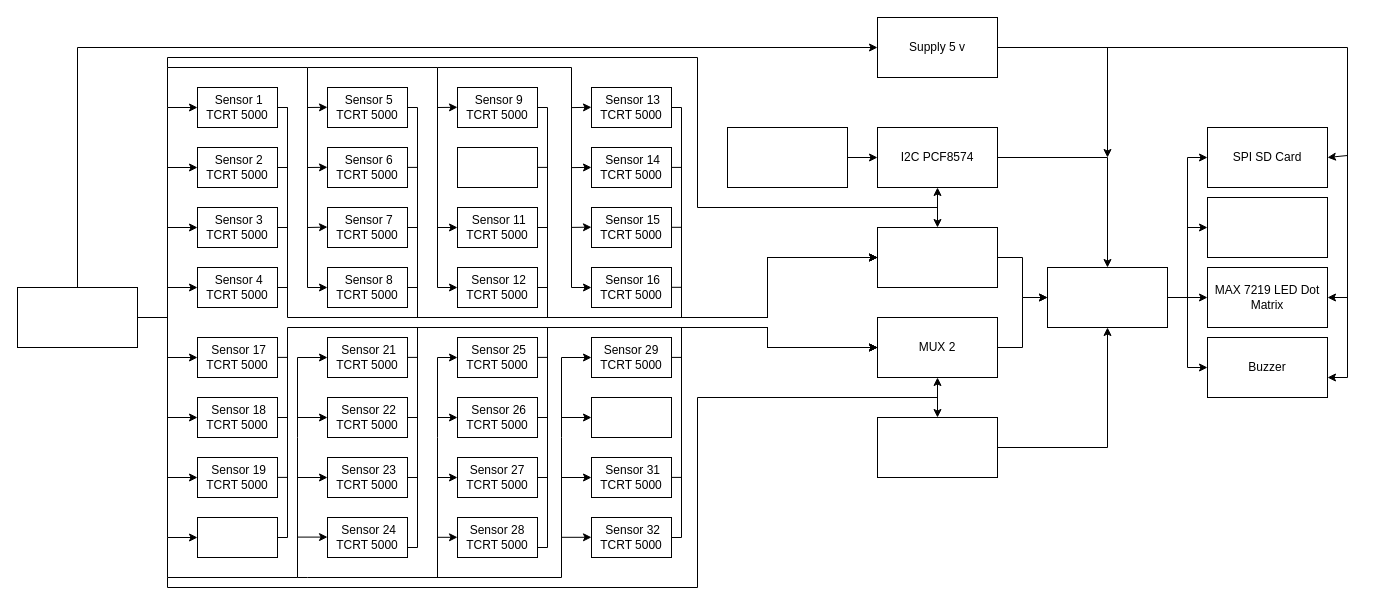
This 1373x606 diagram has some shape labels left out. The shapes that lost their labels are listed below. From the top down, each one's centre as x and y in pixels, then its label:
At point (497, 167): "Sensor 10 TCRT 5000".
At point (787, 157): "Keypad Matrix".
At point (1267, 227): "Web Server IP 192.168.4.1".
At point (937, 257): "MUX 1".
At point (77, 317): "XL4015".
At point (1107, 297): "Mikrokontroller ESP 32-S3".
At point (631, 417): "Sensor 30 TCRT 5000".
At point (937, 447): "RTC DS3231".
At point (237, 537): "Sensor 20 TCRT 5000".
